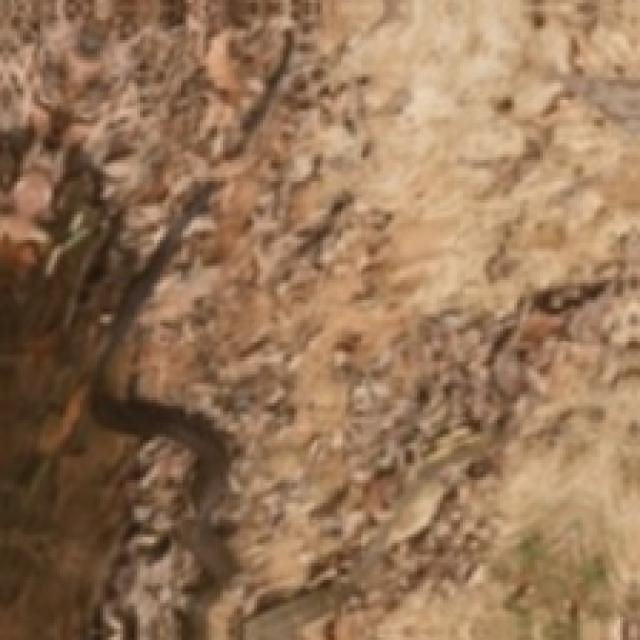king cobra: (0, 0, 294, 637)
